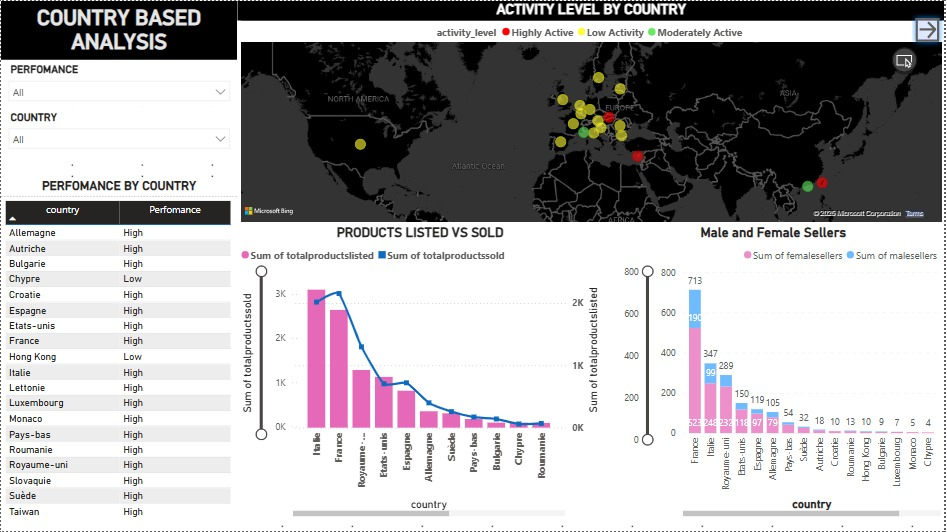

What the dashboard file says about the page in this screenshot:
{"tool":"powerbi","page":{"name":"Country","canvas":[1280,720],"ordinal":0},"visuals":[{"type":"columnChart","title":"Male and  Female Sellers","fields":{"Y":["Sum(ecomm_obt1countries.femalesellers)","Sum(ecomm_obt1countries.malesellers)"],"Category":["ecomm_obt1countries.country"]},"box":[816,304,464,400],"z":0},{"type":"textbox","box":[0,0,320,80],"z":1000},{"type":"slicer","fields":{"Values":["ecomm_obt1countries.country"]},"box":[0,144,320,64],"z":2000},{"type":"tableEx","title":"PERFOMANCE BY COUNTRY","fields":{"Values":["ecomm_obt1countries.country","ecomm_obt1countries.Perfomance"]},"box":[0,240,320,480],"z":3000},{"type":"map","title":"ACTIVITY LEVEL BY COUNTRY","fields":{"Series":["ecomm_obt1countries.activity_level"],"Category":["ecomm_obt1countries.country"]},"box":[320,0,960,304],"z":4000},{"type":"lineClusteredColumnComboChart","title":"PRODUCTS LISTED  VS  SOLD","fields":{"Category":["ecomm_obt1countries.country"],"Y":["Sum(ecomm_obt1countries.totalproductslisted)"],"Y2":["Sum(ecomm_obt1countries.totalproductssold)"]},"box":[320,304,496,400],"z":5000},{"type":"slicer","fields":{"Values":["ecomm_obt1countries.Perfomance"]},"box":[0,80,320,64],"z":6000},{"type":"actionButton","box":[1232,16,48,48],"z":7000}]}

Visuals, with their boxes in screenshot pixels (x1, y1, x2, y2), scaled from the page's 1280x720 canvas onto the 947x532 screenshot:
"Male and  Female Sellers" columnChart: (left=604, top=225, right=946, bottom=520)
textbox: (left=0, top=0, right=237, bottom=59)
slicer - ecomm_obt1countries.country: (left=0, top=106, right=237, bottom=154)
"PERFOMANCE BY COUNTRY" tableEx: (left=0, top=177, right=237, bottom=531)
"ACTIVITY LEVEL BY COUNTRY" map: (left=237, top=0, right=946, bottom=225)
"PRODUCTS LISTED  VS  SOLD" lineClusteredColumnComboChart: (left=237, top=225, right=604, bottom=520)
slicer - ecomm_obt1countries.Perfomance: (left=0, top=59, right=237, bottom=106)
actionButton: (left=911, top=12, right=946, bottom=47)
